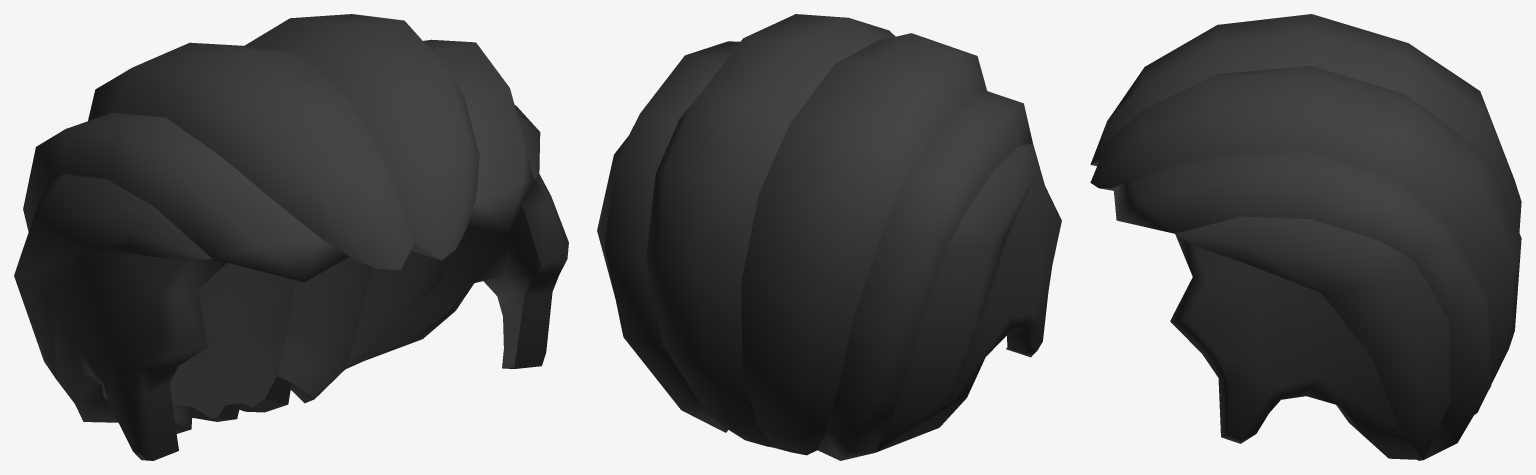
Rendered from Hair_19.fbx.
The picture shows the model from 3 angles, left to right: view 1: azimuth 30°, elevation 25°; view 2: azimuth 150°, elevation 25°; view 3: azimuth 270°, elevation 25°; orthographic projection. The views are drawn at different scales.
Parts seen in each view (by area): view 1: Hair_19; view 2: Hair_19; view 3: Hair_19.
Boxes of the visible parts, <box> form: Hair_19: <box>14,14,568,460</box>; Hair_19: <box>597,14,1061,460</box>; Hair_19: <box>1090,14,1521,460</box>.
Bounding box in the file's own units: 54.98 × 49.54 × 51.22.
